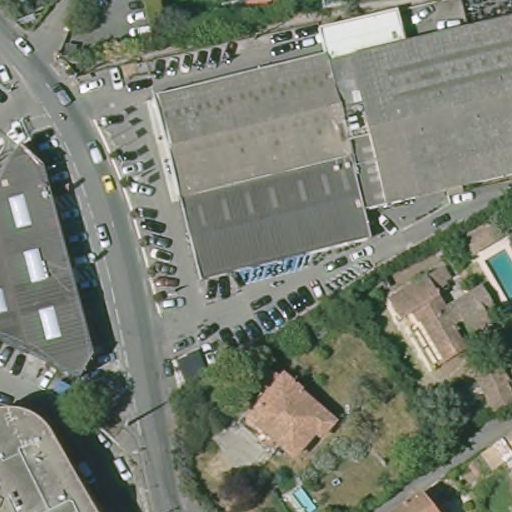pool: (476, 238, 512, 305), (287, 482, 321, 512)
